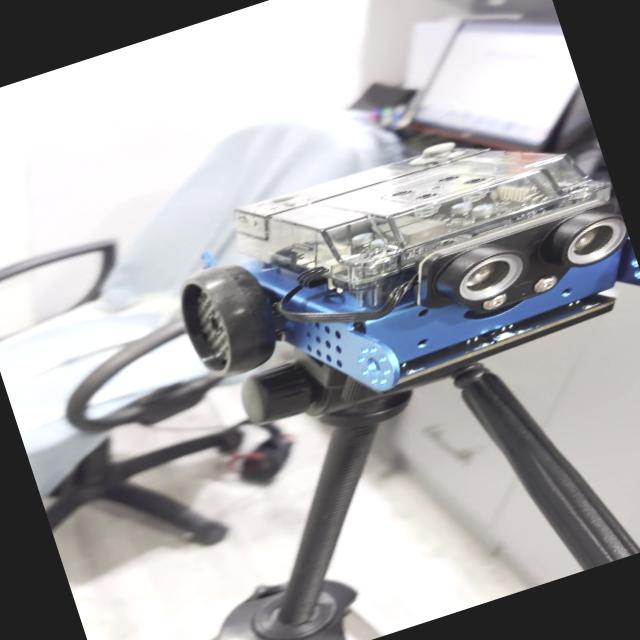mbot-detection: (141, 82, 640, 456)
